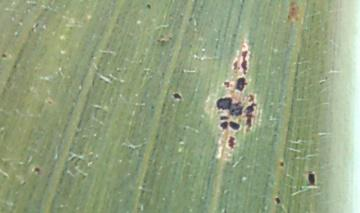tarspot: (215, 96, 243, 116), (244, 103, 256, 129), (240, 51, 249, 76), (235, 76, 246, 91), (226, 134, 236, 149), (228, 120, 241, 131), (306, 173, 316, 187), (272, 195, 281, 206), (218, 113, 229, 121), (173, 93, 183, 101), (219, 123, 229, 131), (247, 93, 255, 103), (232, 60, 239, 71), (32, 165, 40, 173), (145, 1, 152, 10), (278, 161, 286, 168), (222, 81, 230, 88), (1, 52, 8, 59)
